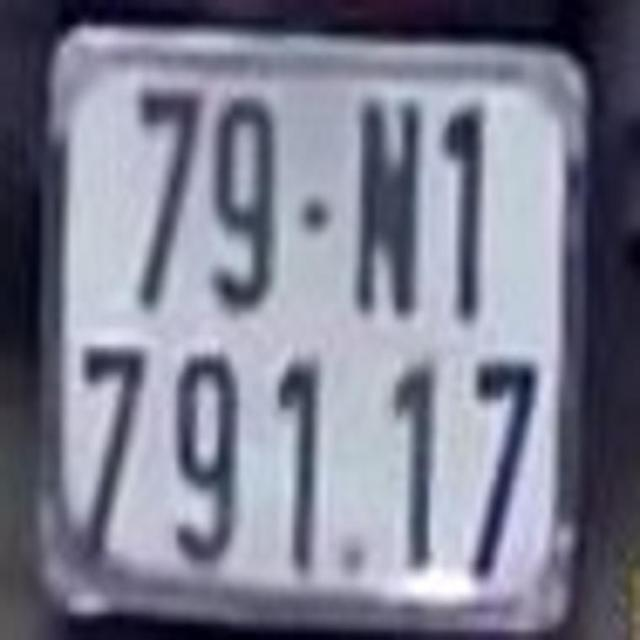1: (441, 105, 486, 321), (276, 362, 318, 573), (393, 364, 436, 570)
7: (77, 342, 147, 554), (471, 359, 538, 580), (134, 88, 199, 307)
9: (212, 96, 276, 310), (174, 353, 238, 562)
N: (358, 102, 421, 315)
